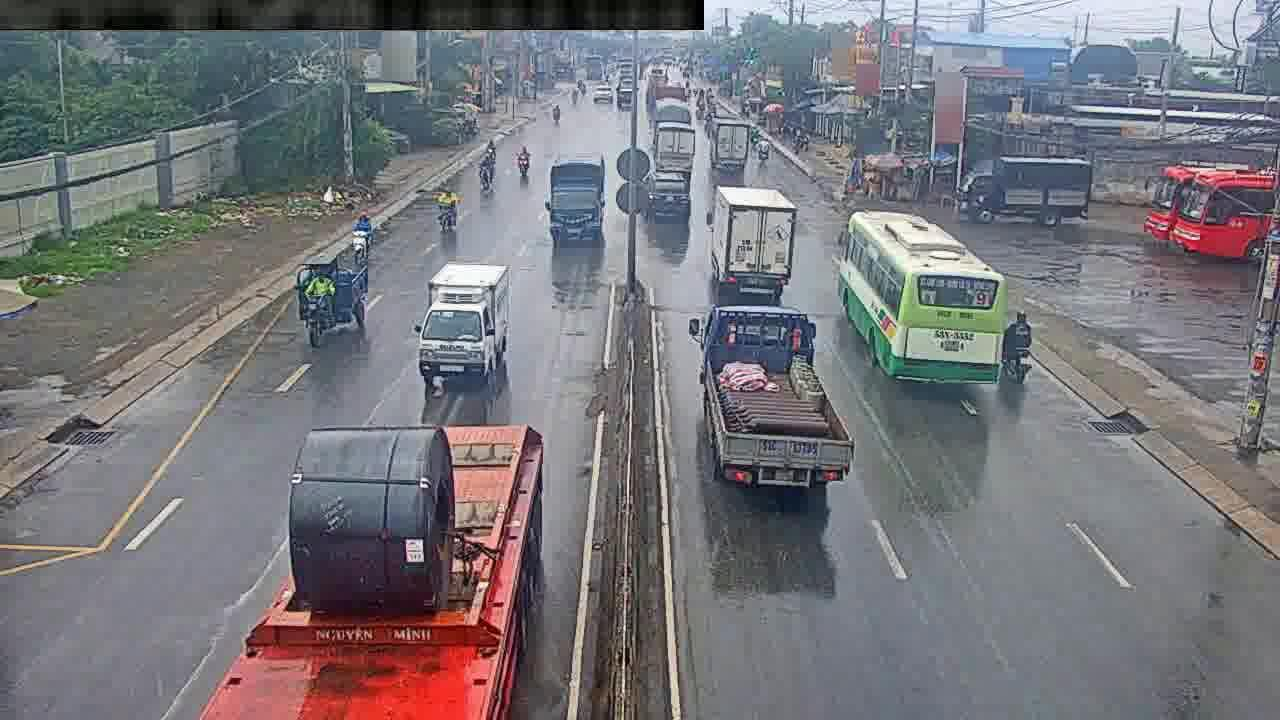14: (835, 210, 1006, 379)
8: (195, 427, 546, 720), (701, 301, 854, 484), (419, 262, 508, 386), (707, 184, 798, 298), (546, 153, 605, 240), (651, 118, 699, 176), (710, 121, 749, 167)
container: (648, 171, 689, 217)
motorbike: (1000, 311, 1034, 382), (347, 209, 374, 266), (434, 179, 457, 234), (479, 149, 494, 192), (519, 140, 533, 182)
